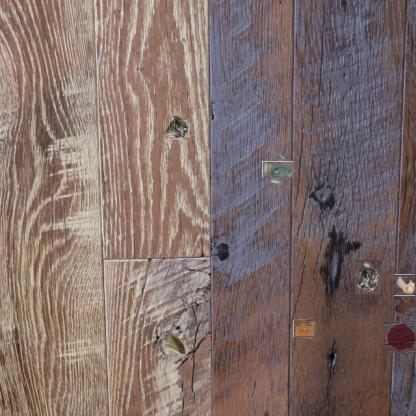dirty: (355, 260, 381, 294), (162, 333, 186, 357), (266, 158, 290, 181), (167, 117, 190, 139), (394, 274, 415, 295), (295, 318, 315, 339)
liquid: (385, 322, 416, 352), (395, 295, 416, 315)
